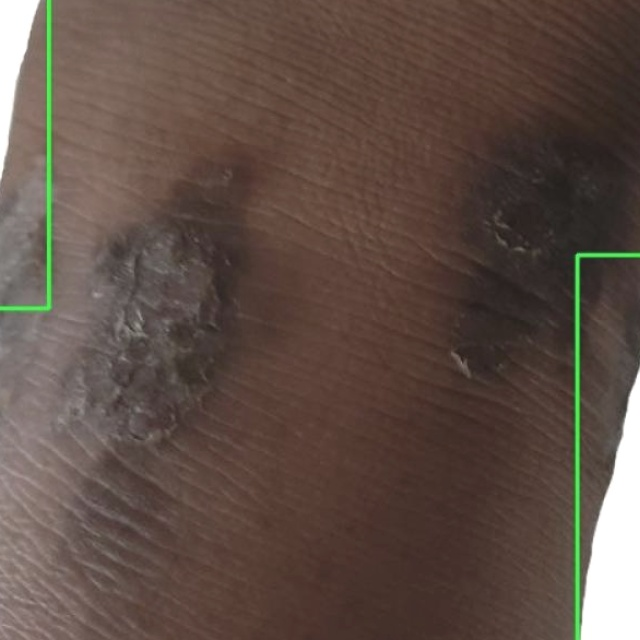Contact Dermatitis: (577, 255, 639, 639)
